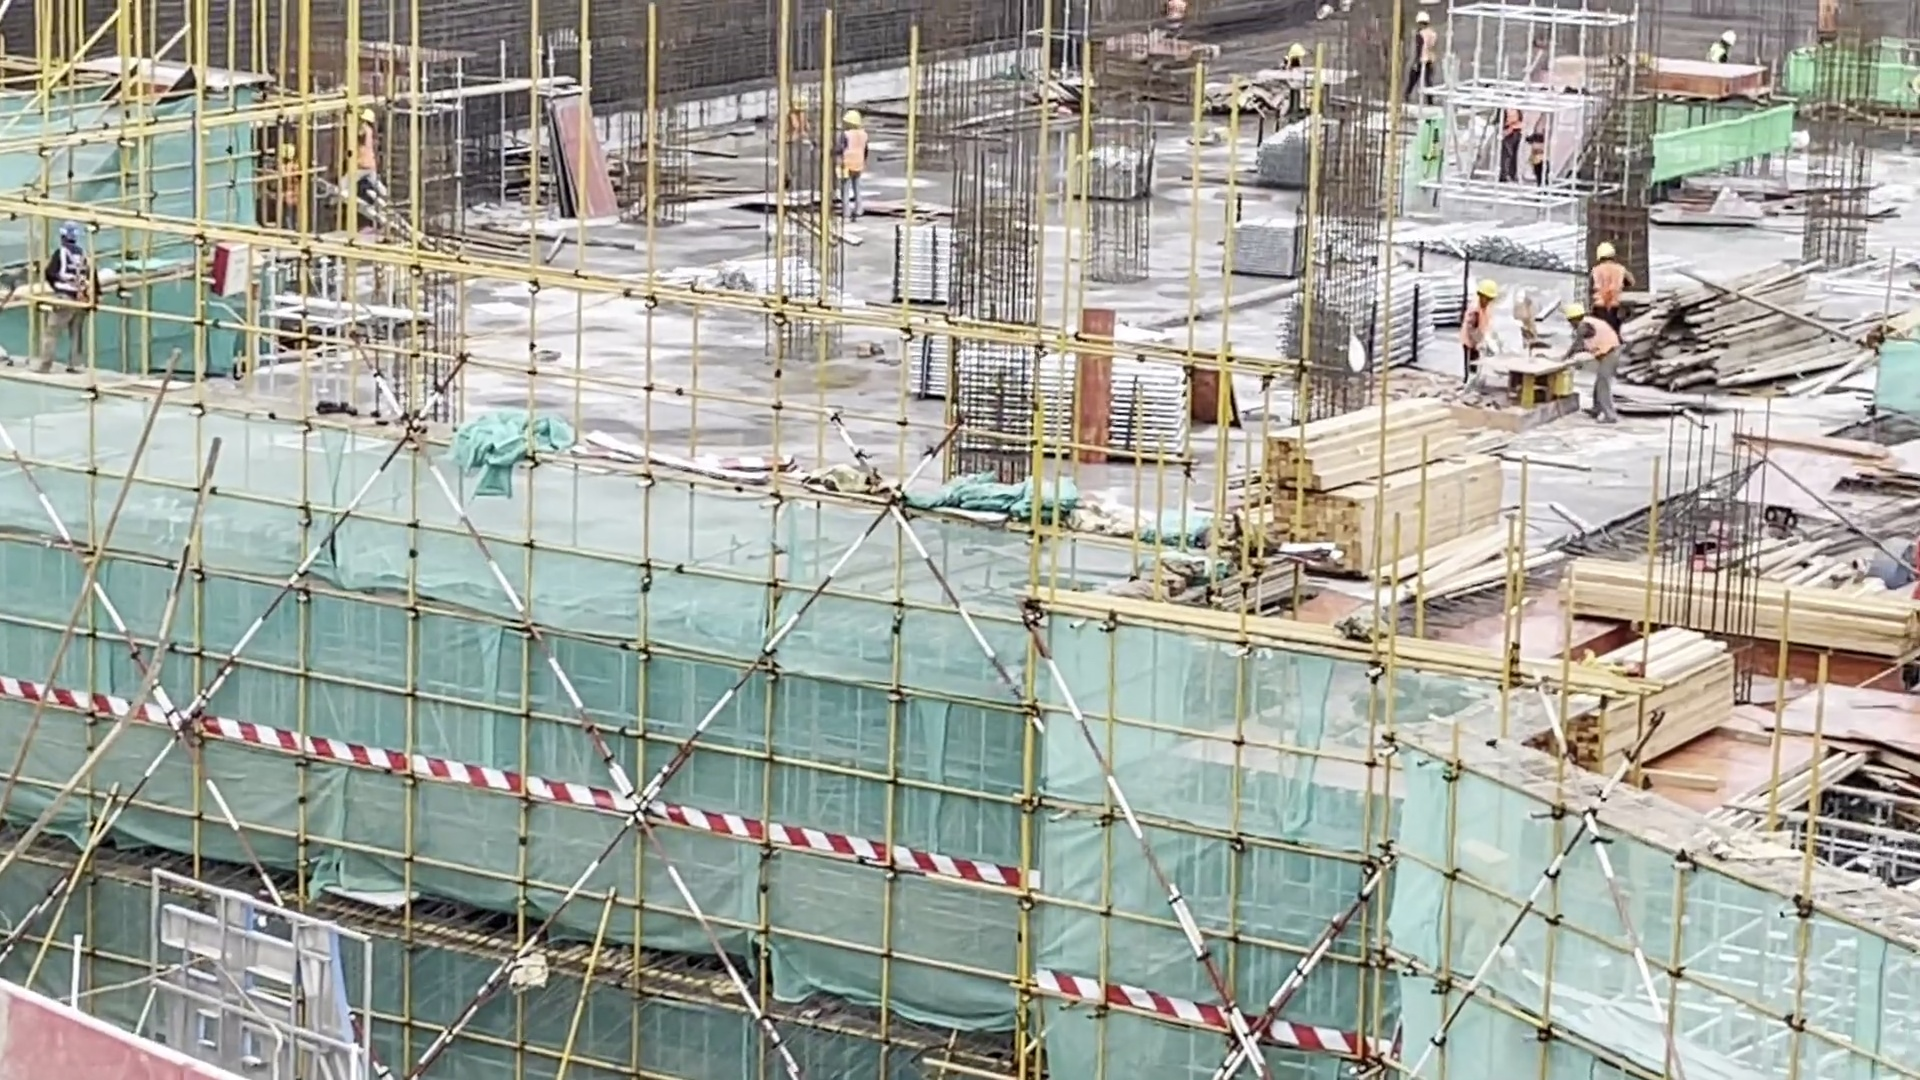helmet: (1590, 232, 1622, 264), (1473, 276, 1499, 313), (1560, 291, 1587, 328), (1718, 29, 1746, 48), (1417, 7, 1435, 35), (278, 142, 301, 158), (842, 109, 860, 123)
person: (1563, 309, 1630, 428), (45, 220, 92, 361), (1409, 3, 1444, 114), (1594, 240, 1632, 337), (830, 102, 863, 213), (355, 99, 387, 214), (1465, 280, 1497, 378), (1492, 94, 1523, 193), (274, 143, 303, 228)
vest: (50, 246, 93, 292), (840, 129, 868, 171), (1570, 327, 1621, 349), (1595, 264, 1627, 296), (1467, 305, 1492, 344), (284, 162, 304, 198), (1499, 103, 1522, 135), (354, 131, 379, 158), (1412, 34, 1436, 63)
